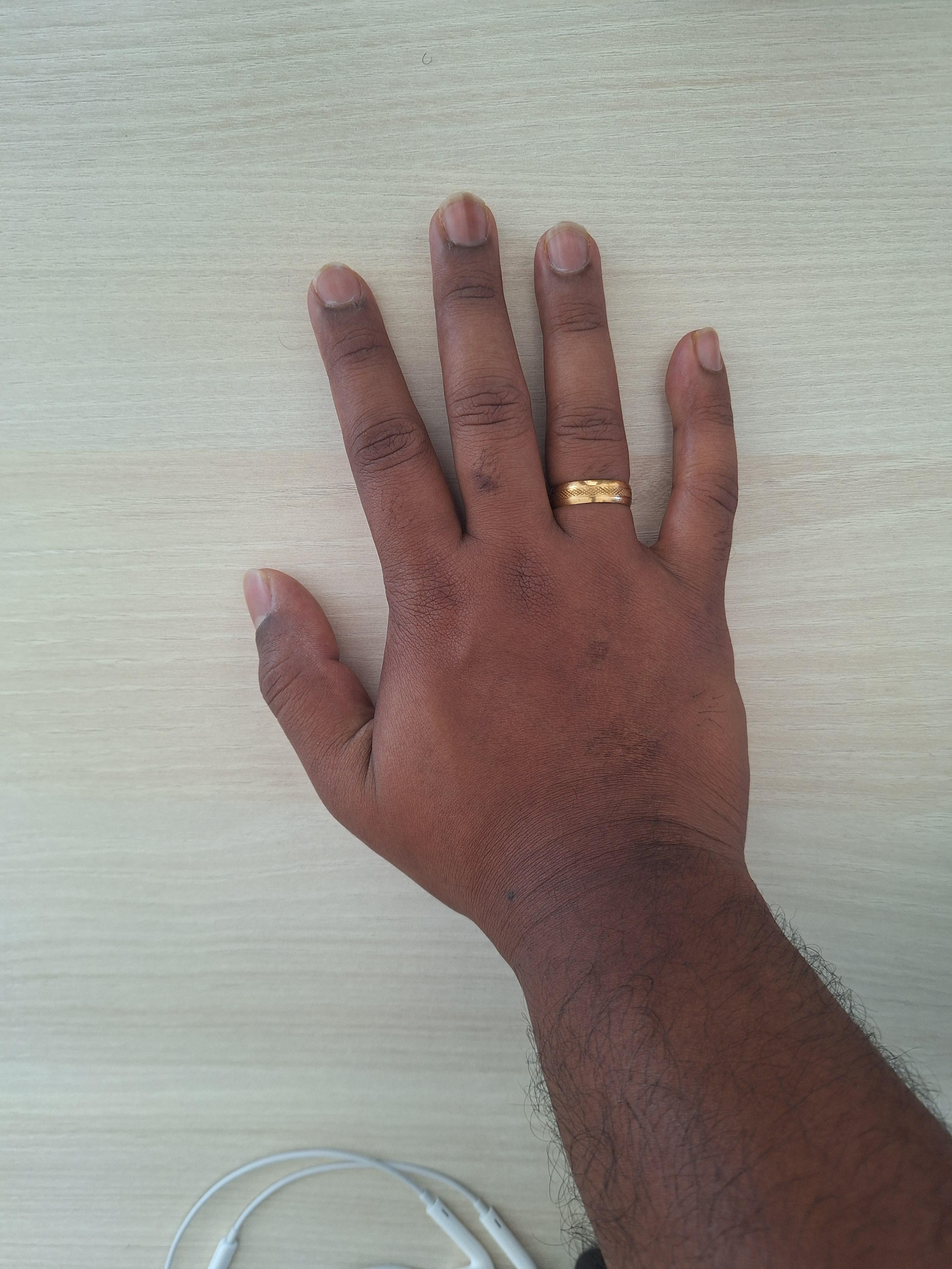Fingernail: (439, 191, 488, 245), (545, 222, 590, 273), (313, 262, 361, 305), (243, 569, 272, 633), (693, 327, 722, 371)
